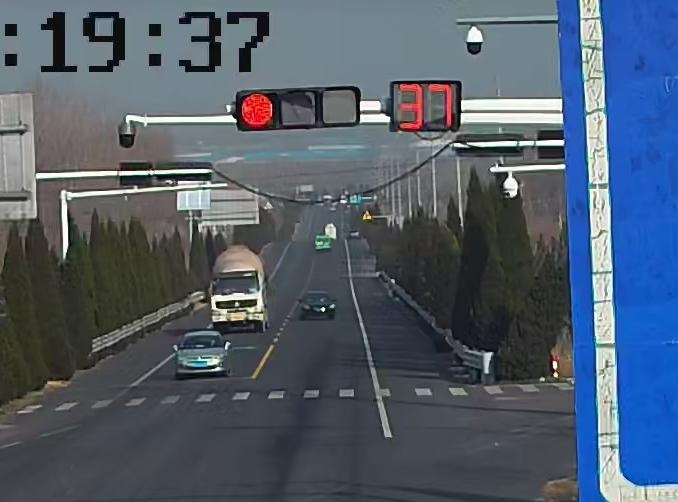red: (239, 93, 276, 129)
redtime: (398, 80, 455, 131)
